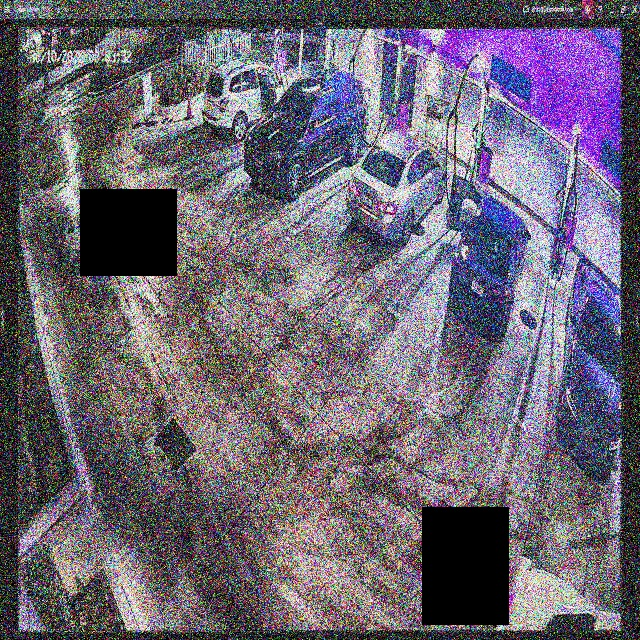Car: (244, 71, 366, 197), (446, 174, 531, 334), (346, 128, 446, 244)
